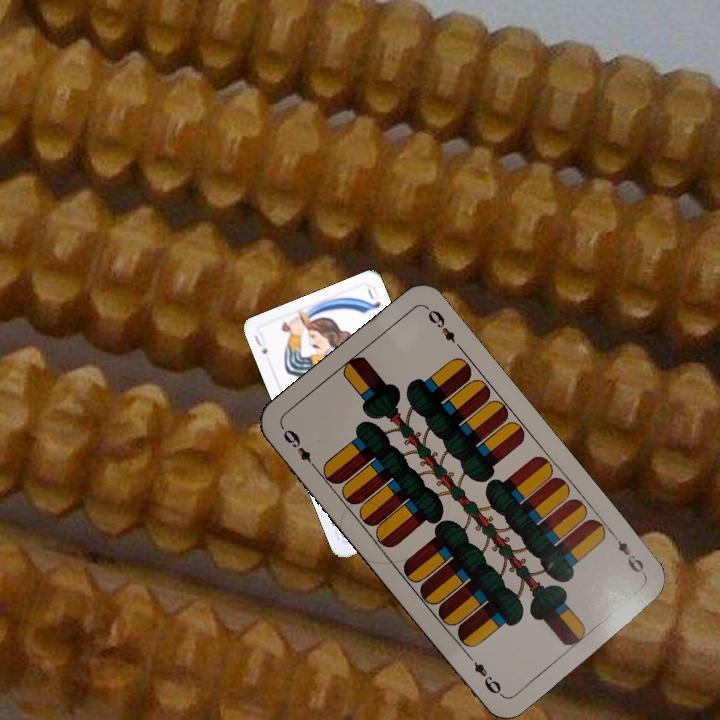E9: (278, 423, 320, 473), (607, 528, 647, 579)
SU: (250, 329, 270, 357)
